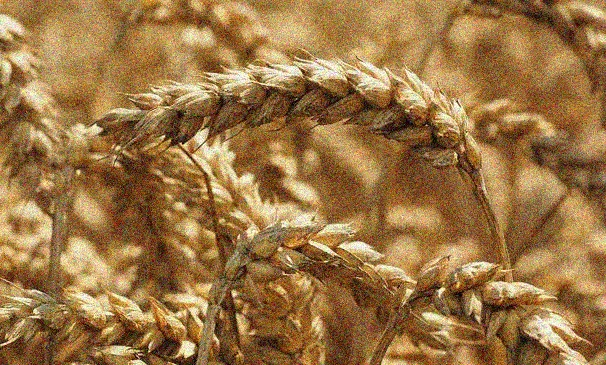wheat: (213, 215, 580, 365), (73, 53, 484, 186)
